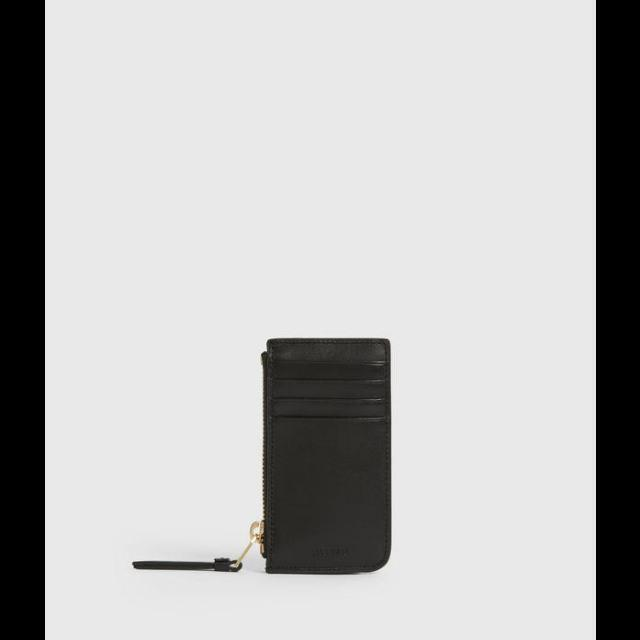wallet: (253, 329, 394, 579)
